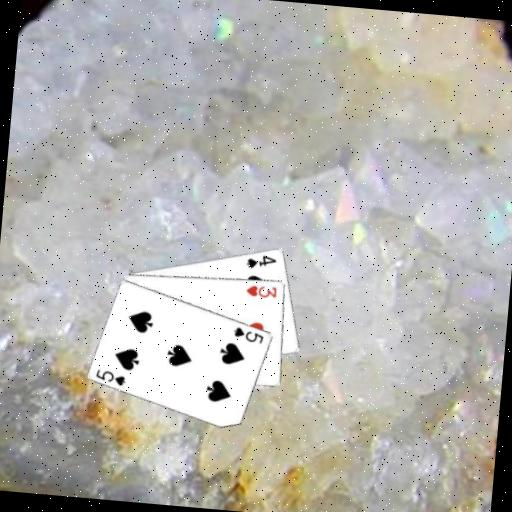3H: (244, 282, 279, 300)
4S: (244, 251, 279, 272)
5S: (230, 323, 267, 345), (92, 365, 129, 387)
